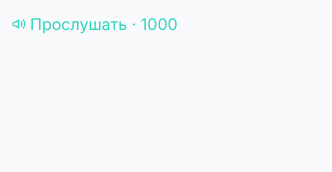
Test: плеер ответа › «Озвучиваю…» → «Остановить» → куски по порядку → снова «Прослушать»
Later steps or results of the test are not shown.
Click the button "Прослушать · 1000": (95, 24) top-left (12, 12), bottom-right (178, 36)
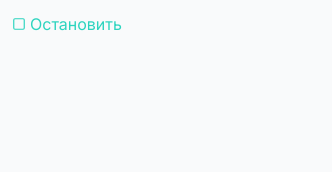
Result: the button "Остановить" is shown at top-left (12, 12), bottom-right (122, 36)
